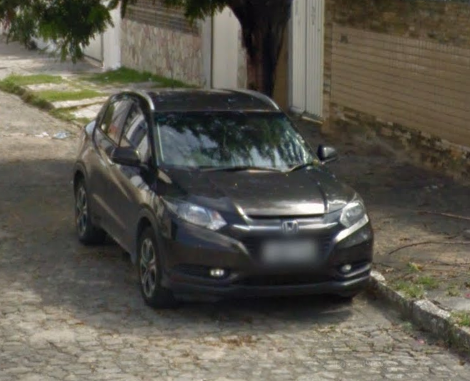car: (69, 67, 380, 318)
